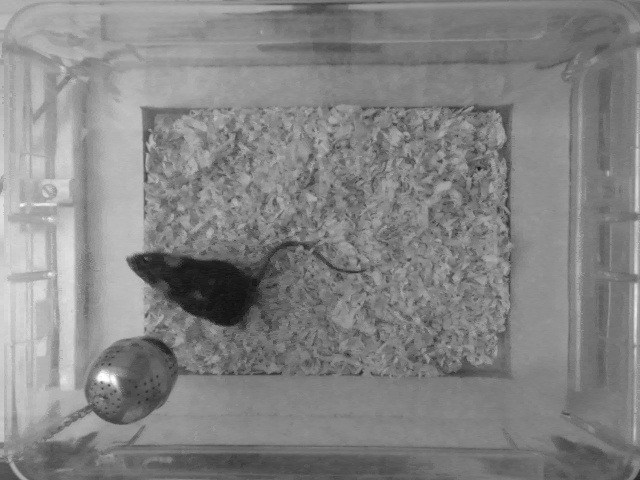mice: (127, 240, 367, 327)
